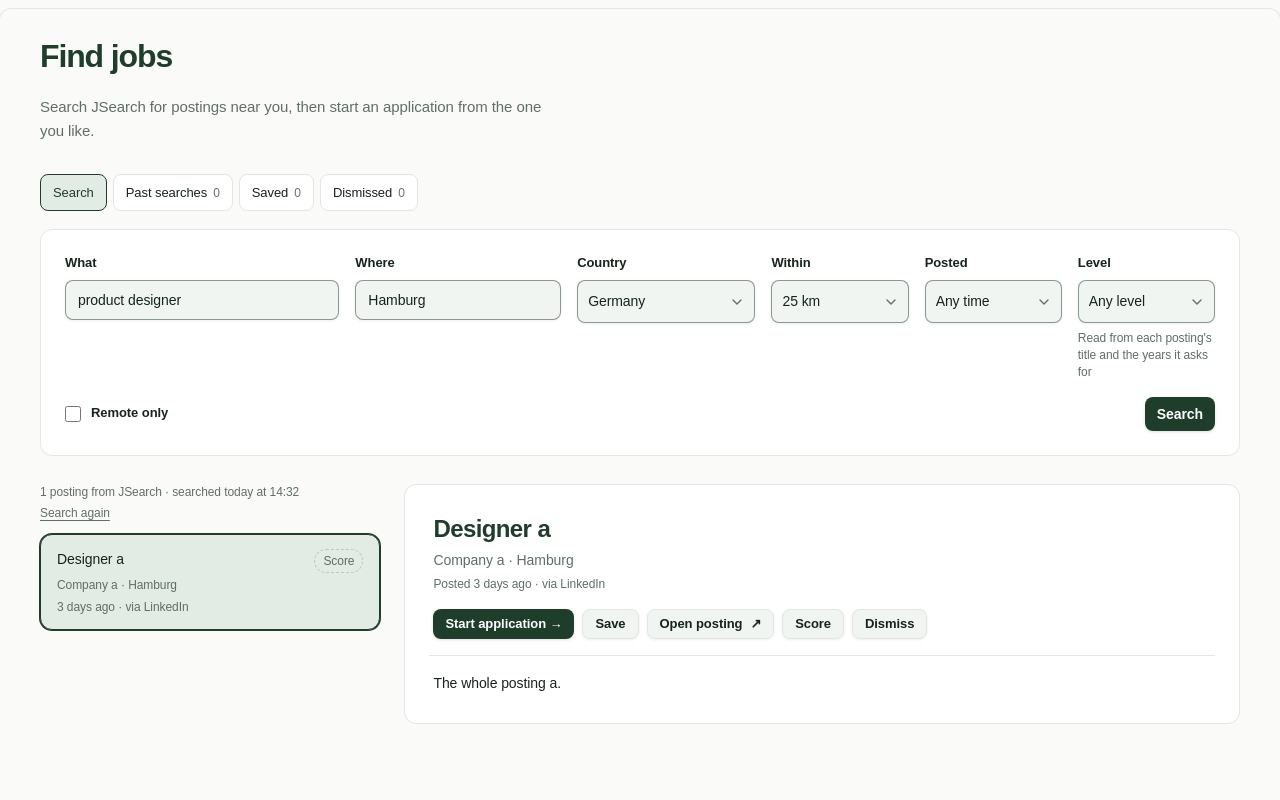
the results › saves a posting and takes it out of Saved again
The width and height of the screenshot is (1280, 800).
Later steps or results of the test are not shown.
Click the button "Save" at (611, 624), box x1=582 y1=609 x2=639 y2=639
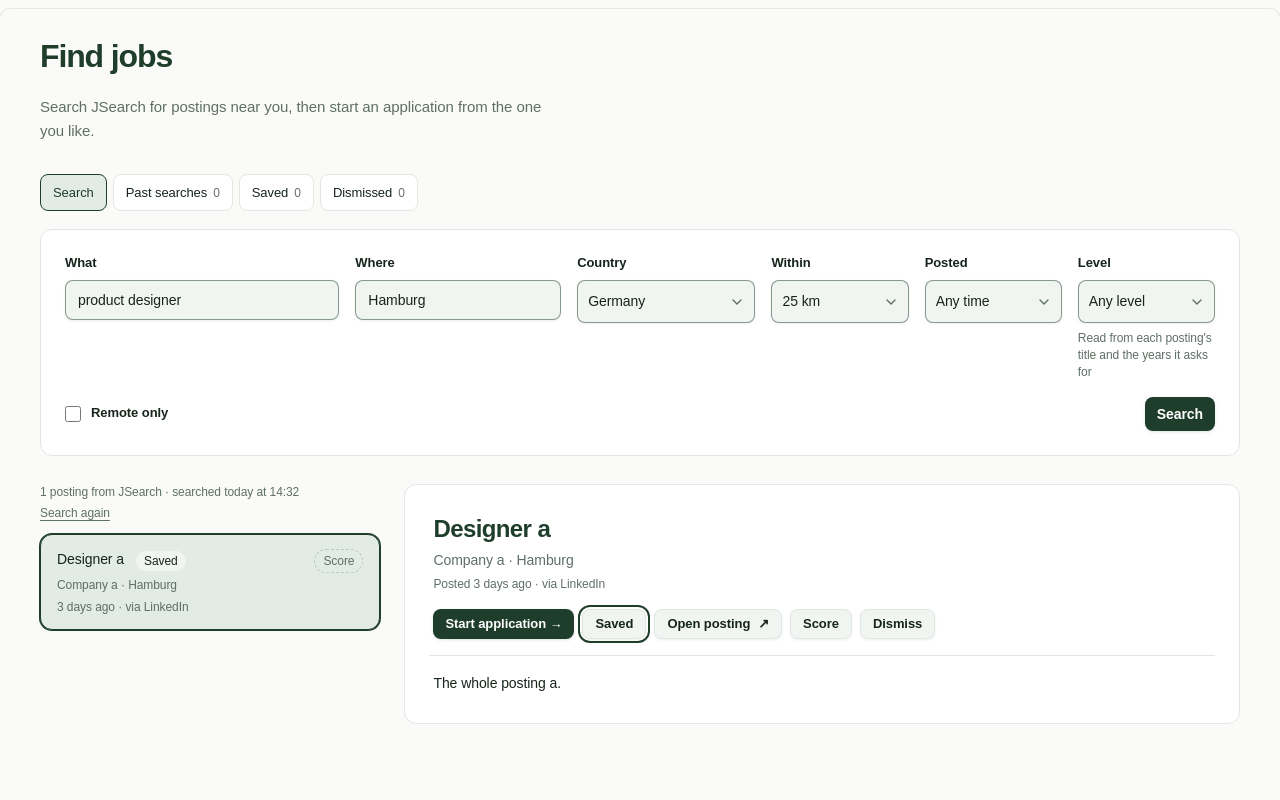
Now the text "Saved" is shown, box x1=136 y1=551 x2=186 y2=571
